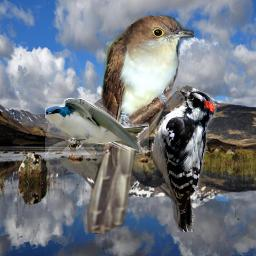Cuckoo: (87, 13, 194, 234)
Swallow: (45, 98, 149, 155)
Woodpecker: (149, 86, 218, 232)
